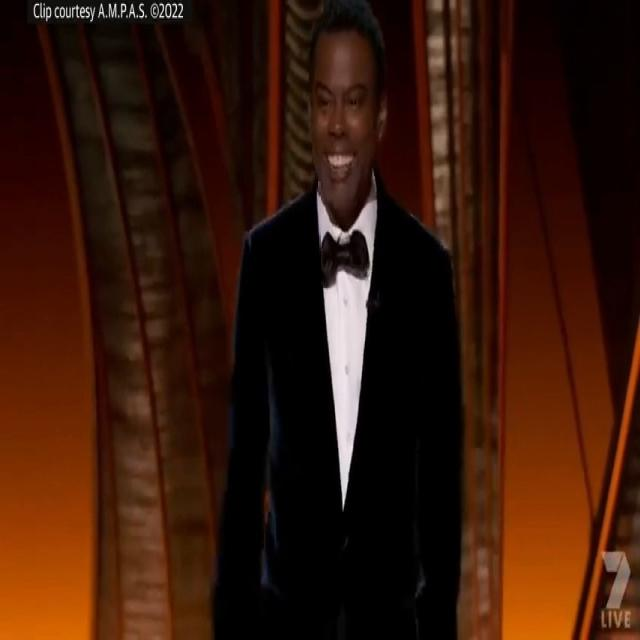non-fight: (204, 4, 469, 640)
